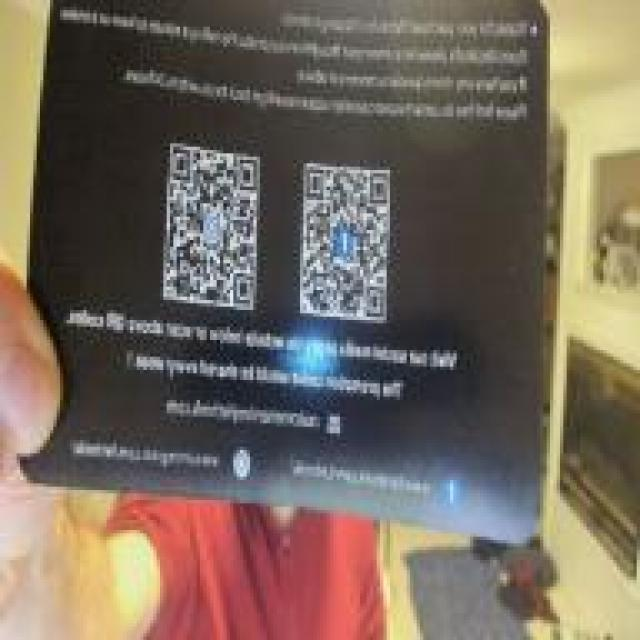QR_CODE: (158, 136, 270, 316), (296, 147, 396, 333)
